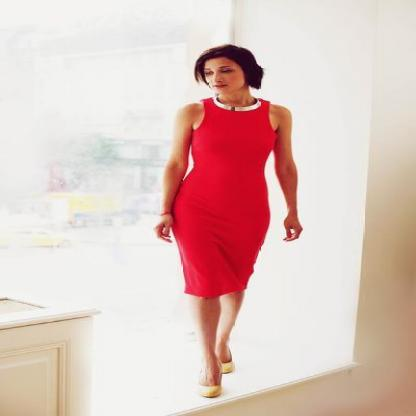dress: (172, 98, 278, 297)
shoe: (204, 358, 233, 397)
